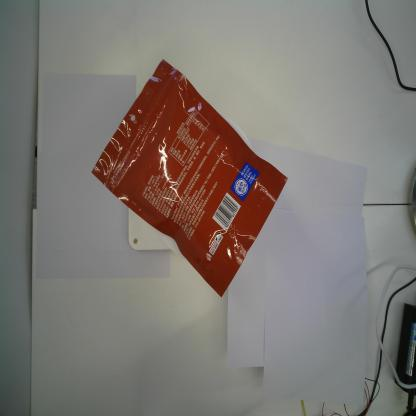Dried Food: (92, 57, 288, 297)
